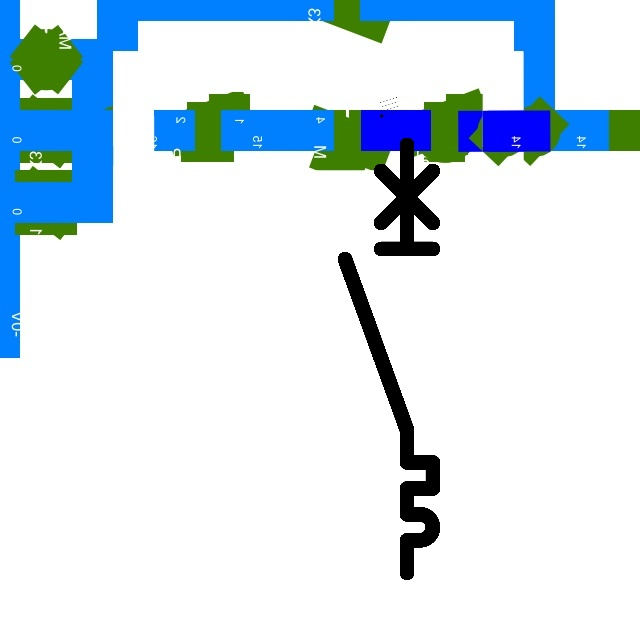interruptor_termomagnetico: (334, 133, 444, 583)
